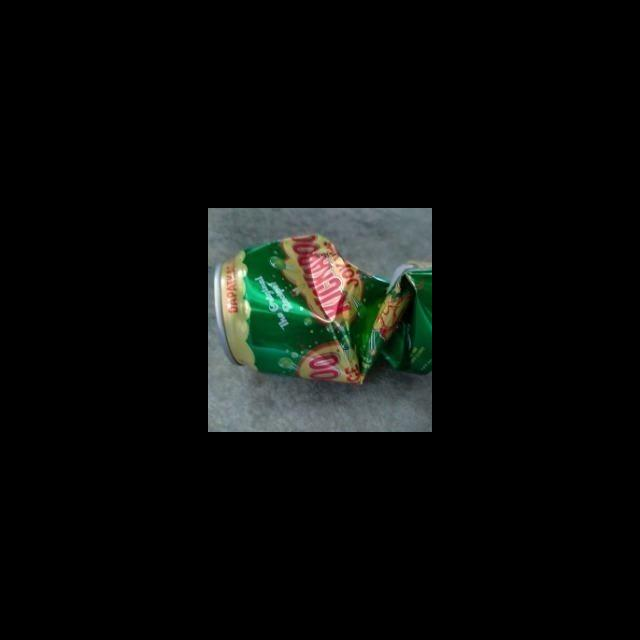metal: (210, 233, 432, 390)
